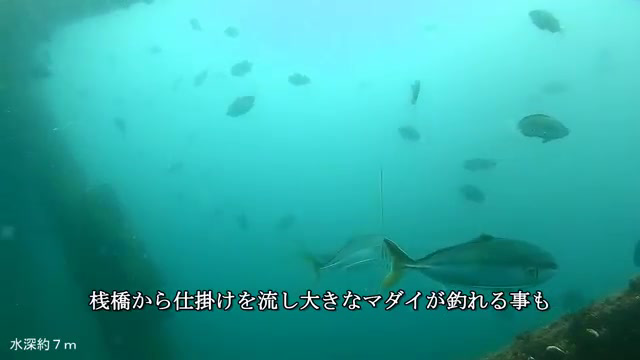hamati: (382, 229, 581, 294)
